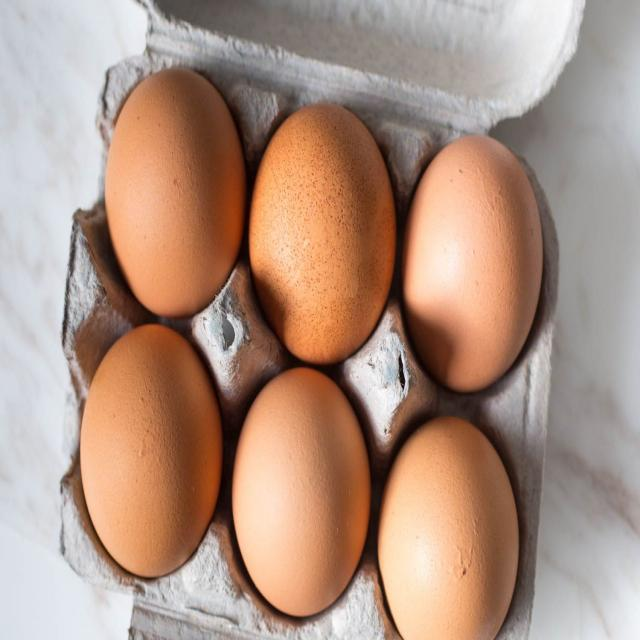biodegradable: (247, 98, 397, 363), (80, 322, 226, 584), (404, 133, 546, 400), (231, 368, 374, 621), (105, 68, 245, 317), (377, 417, 521, 640)
